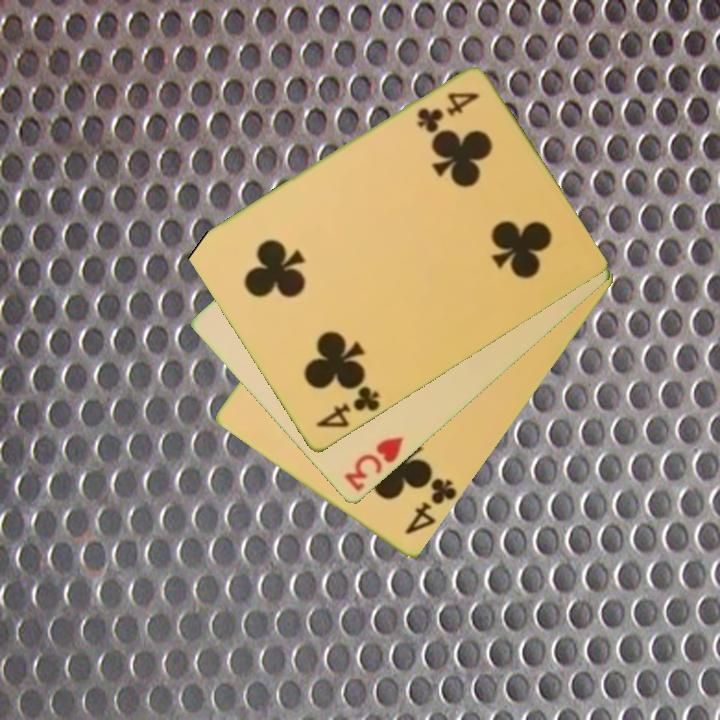3h: (340, 433, 407, 495)
4c: (401, 471, 460, 539), (312, 383, 383, 432), (413, 89, 482, 135)
